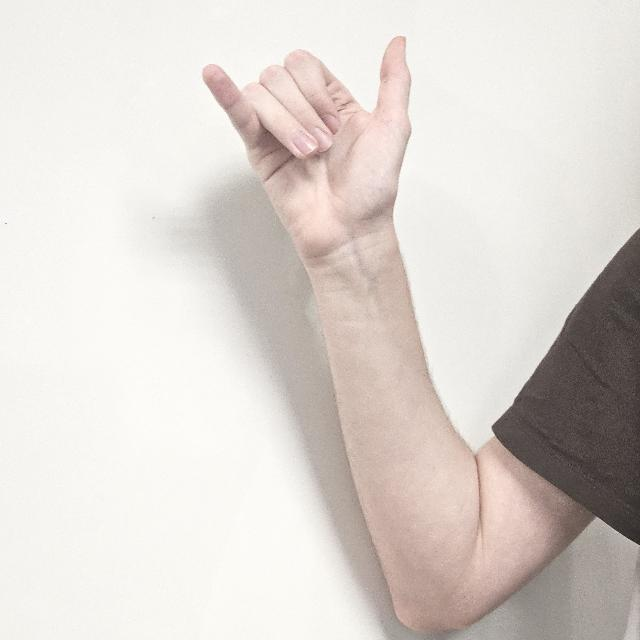Direita: (202, 29, 420, 284)
